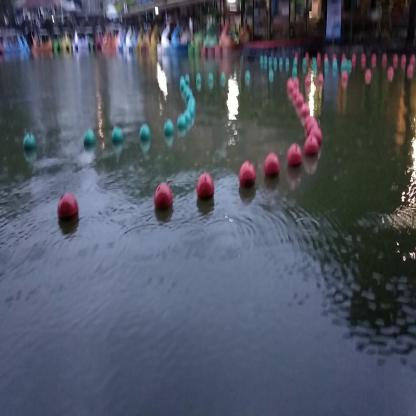green_buoy: (23, 131, 36, 151), (164, 118, 174, 137), (177, 115, 186, 136), (83, 130, 94, 145), (113, 128, 123, 142), (140, 125, 150, 138)
red_buoy: (58, 192, 80, 228), (197, 174, 216, 206), (154, 182, 172, 214), (239, 160, 255, 189), (286, 142, 304, 166), (264, 155, 280, 181), (306, 136, 316, 154)
